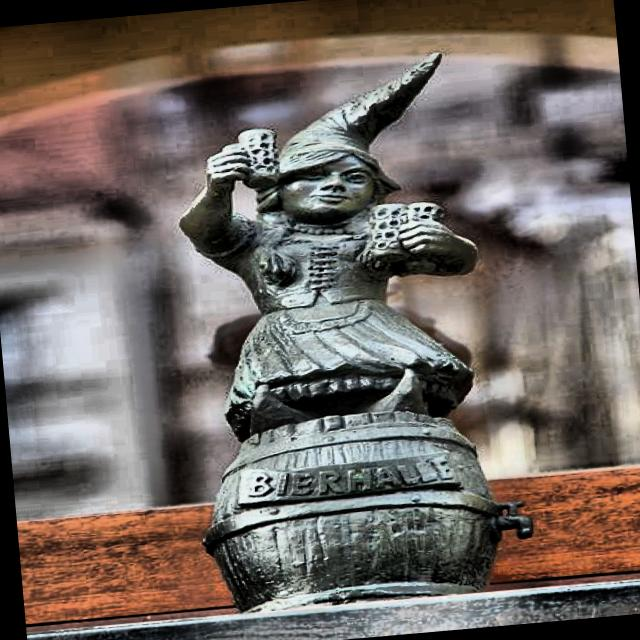Bawarka: (180, 54, 531, 611)
